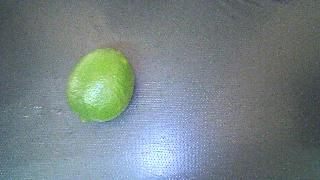EXPORTACION: (66, 48, 134, 122)
